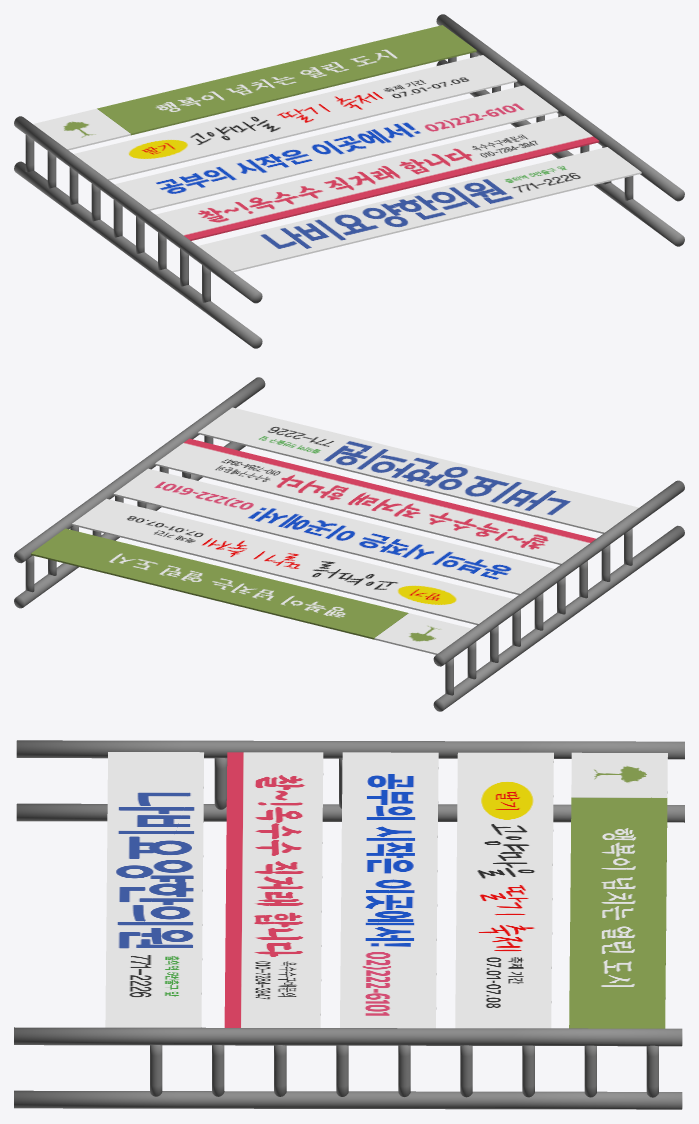
The model's file is banner.glb.
The picture shows the model from 3 angles, top to bottom: view 1: azimuth 30°, elevation 25°; view 2: azimuth 150°, elevation 25°; view 3: azimuth 270°, elevation 25°; orthographic projection. The views are drawn at different scales.
Visible parts, largest first — view 1: Cube.001; view 2: Cube.001; view 3: Cube.001.
Part boxes in pixels (x1,y1,x2,y2): Cube.001: (14,14,684,348); Cube.001: (14,377,684,711); Cube.001: (14,740,684,1109).
Size of the model in its own units: 0.4491 by 0.0561 by 0.4307.
6 materials, 5 textured.
